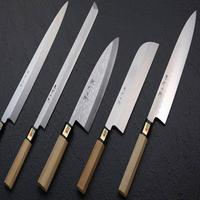knife: (46, 30, 198, 195), (3, 1, 69, 153)
